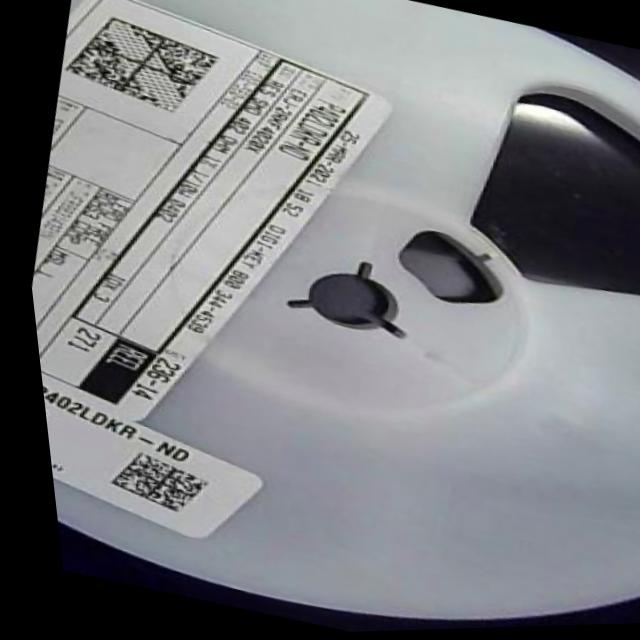datamatrix: (49, 4, 236, 128), (89, 445, 207, 523)
